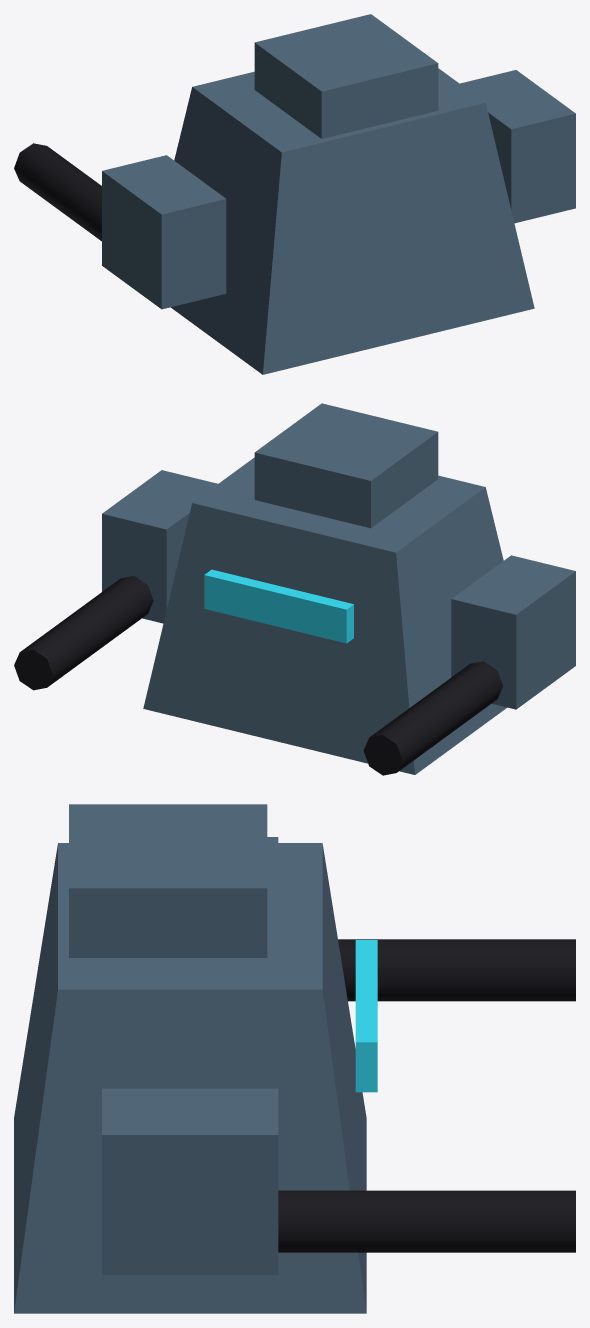
File: enemy_gunner.obj
3 renders of one model, top to bottom at view 1: azimuth 30°, elevation 25°; view 2: azimuth 150°, elevation 25°; view 3: azimuth 270°, elevation 25°, orthographic. The views are drawn at different scales.
Parts seen in each view (by area): view 1: armor, gun; view 2: armor, gun, visor; view 3: armor, gun, visor.
Part boxes in pixels (box(x1,y1,x2,y2)): armor: box(102, 14, 575, 374); gun: box(14, 143, 101, 241); armor: box(102, 403, 575, 774); gun: box(14, 576, 502, 775); visor: box(204, 569, 353, 643); armor: box(14, 804, 366, 1313); gun: box(278, 939, 575, 1252); visor: box(355, 940, 377, 1092).
Size of the model in its own units: 0.64 by 0.37 by 0.51.
